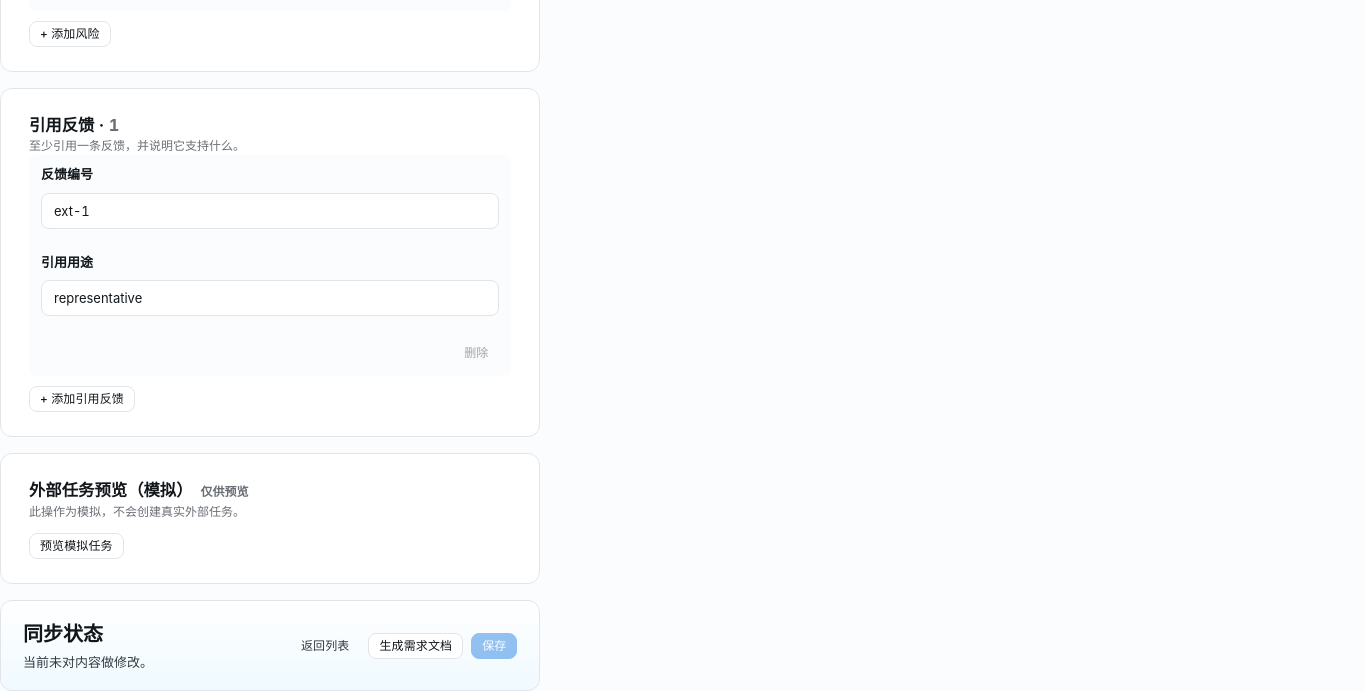
Test case: RequirementDetailPage — Phase 7 B2 › Cancel surfaces "已取消；无模拟结果" and re-enables Prepare
(page scrolled)
Expected: the element with test id "tool-action-preview" is shown, [0, 453, 540, 584]
Click the button with test id "tool-prepare" at (76, 546), box [29, 533, 124, 559]
(page scrolled)
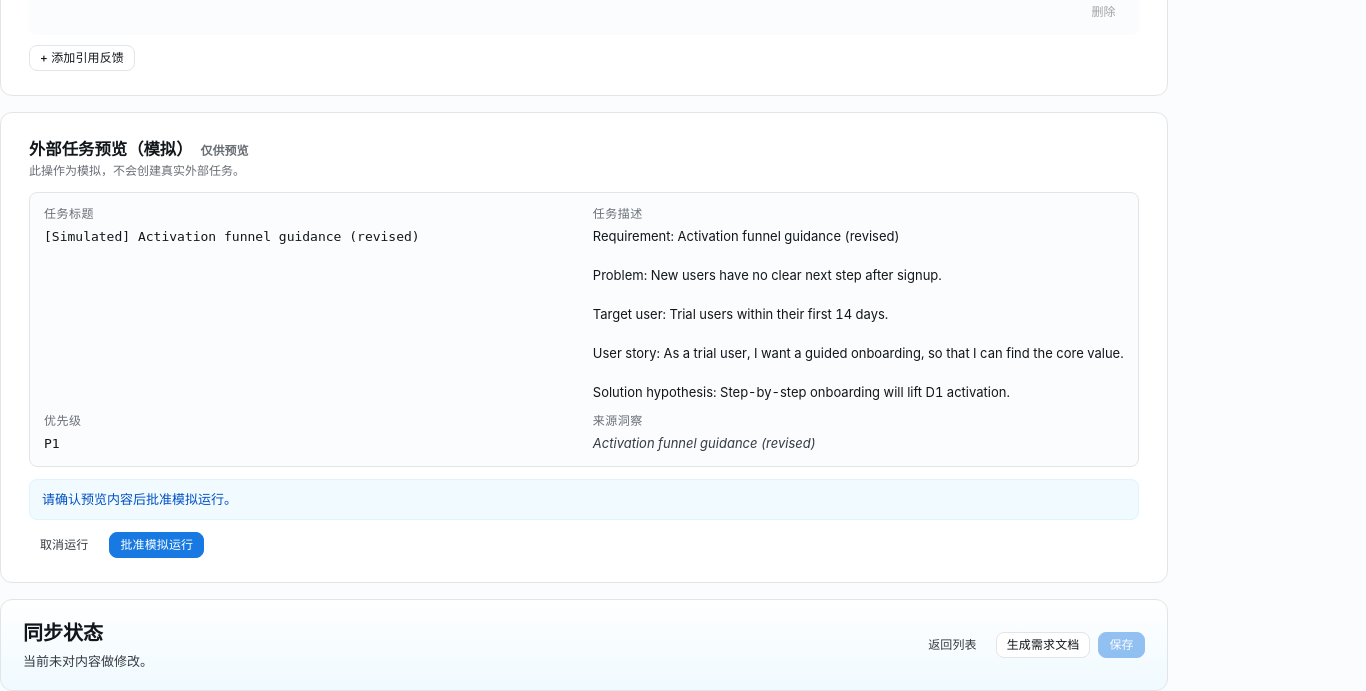
Expected: the element with test id "tool-action-awaiting-approval" is shown, [29, 192, 1139, 558]
Click the button with test id "tool-cancel" at (64, 545), box [29, 532, 100, 558]
(page scrolled)
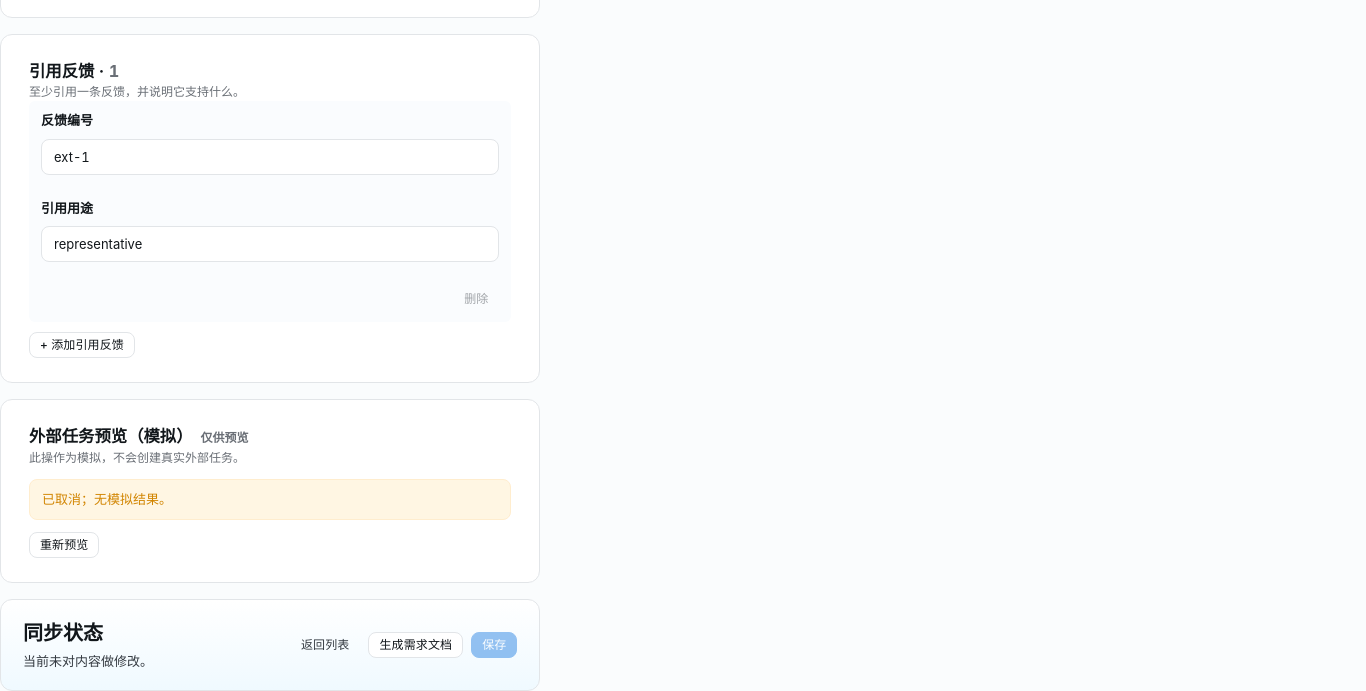
Expected: the element with test id "tool-action-cancelled" is shown, [29, 479, 511, 558]
Expected: the message with test id "tool-cancelled-notice" shows "无模拟结果", [42, 491, 172, 507]
Expected: the button with test id "tool-reprepare" is shown, [29, 532, 100, 558]
